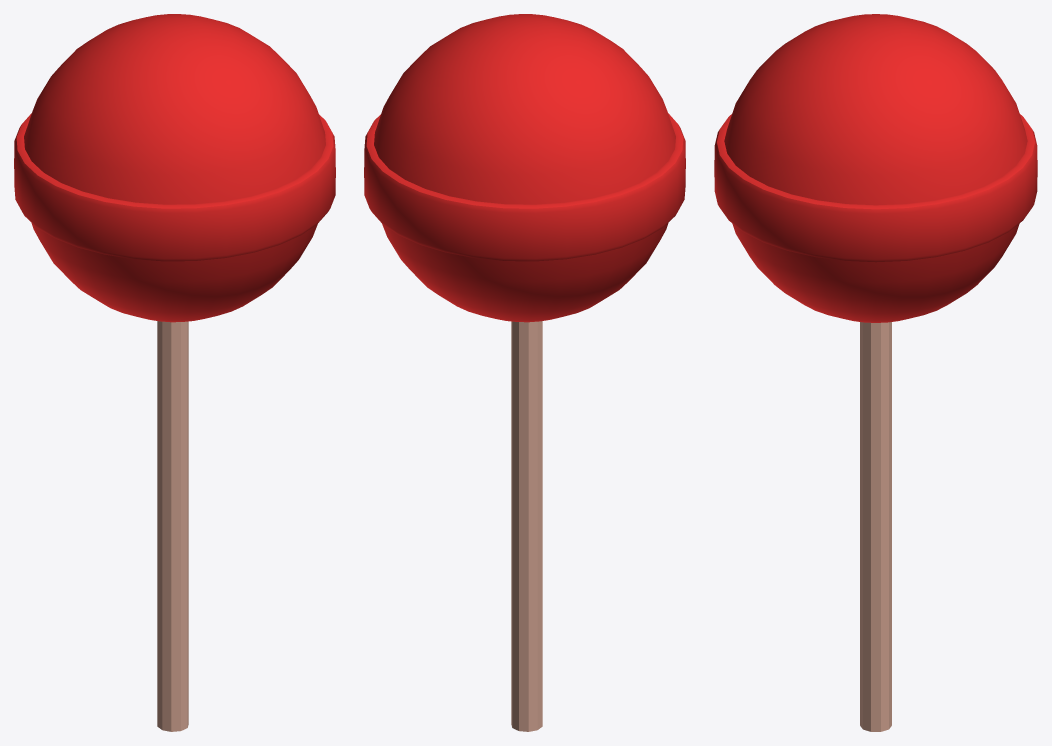
File: loly pop v2.fbx
3 views of the same model, side by side, from view 1: azimuth 30°, elevation 25°; view 2: azimuth 150°, elevation 25°; view 3: azimuth 270°, elevation 25° (orthographic).
Parts seen in each view (by area): view 1: loly pop v2; view 2: loly pop v2; view 3: loly pop v2.
Boxes of the visible parts, left/top/right/bottom form: loly pop v2: left=14, top=14, right=335, bottom=731; loly pop v2: left=364, top=14, right=685, bottom=731; loly pop v2: left=714, top=14, right=1037, bottom=731.
Bounding box in the file's own units: 524 × 1249 × 524.
